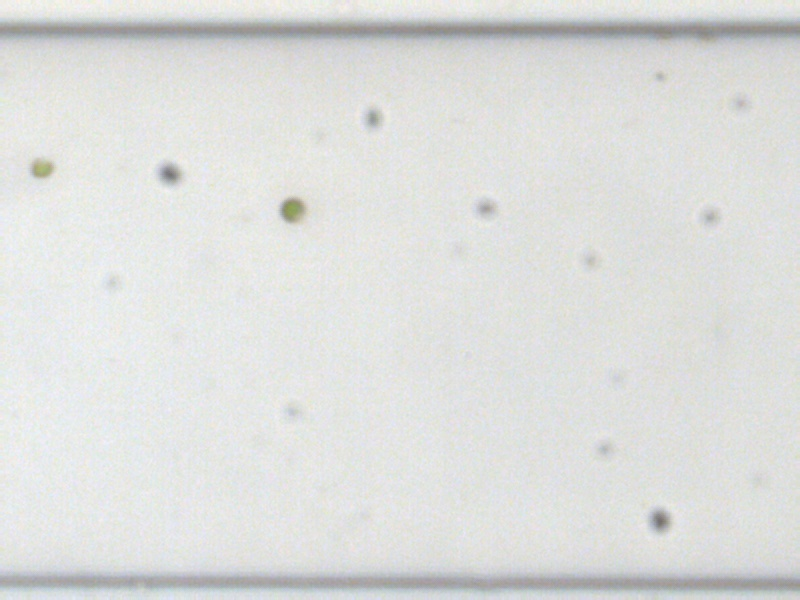Chlorella: (278, 195, 303, 223), (25, 158, 57, 178)
